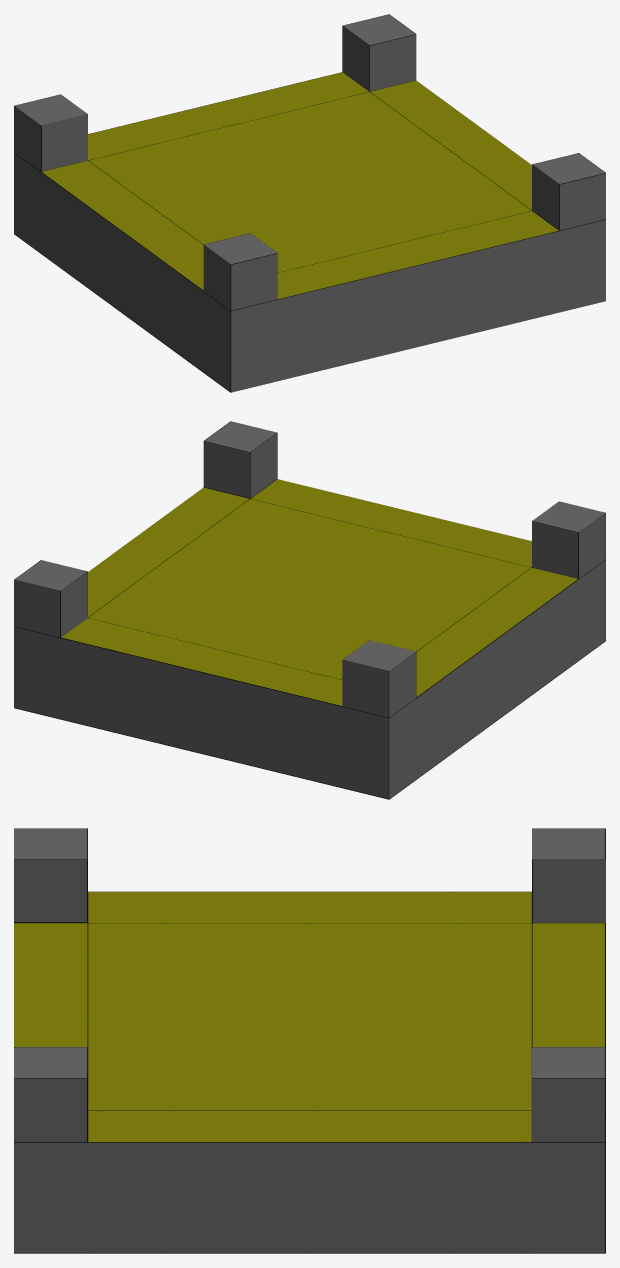
The model's file is intersection_4_belt.obj.
3 views of the same model, one above another, from view 1: azimuth 30°, elevation 25°; view 2: azimuth 150°, elevation 25°; view 3: azimuth 270°, elevation 25° (orthographic). The views are drawn at different scales.
Visible parts, largest first — view 1: intersection_4_belt_Cube.021; view 2: intersection_4_belt_Cube.021; view 3: intersection_4_belt_Cube.021.
Part boxes in pixels (x1=…): intersection_4_belt_Cube.021: x1=14, y1=14, x2=605, y2=392; intersection_4_belt_Cube.021: x1=14, y1=421, x2=605, y2=799; intersection_4_belt_Cube.021: x1=14, y1=828, x2=605, y2=1253.
Bounding box in the file's own units: 2 × 0.6539 × 2.
1 material, 1 textured.
